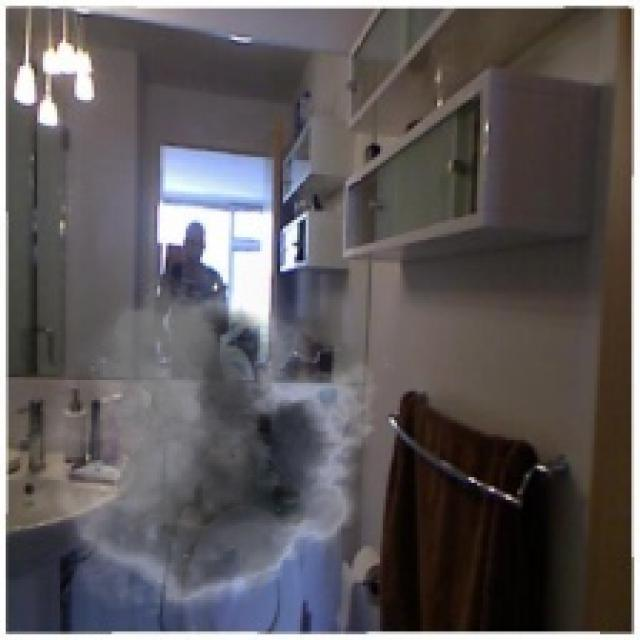Smoke: (14, 274, 394, 629)
